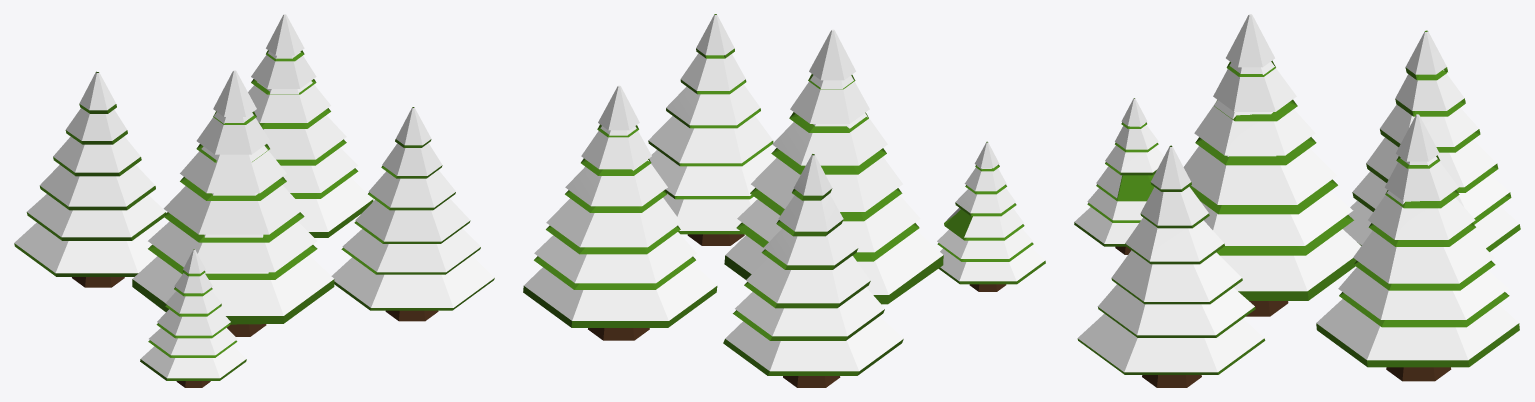
The model's file is forest_snow.glb.
The picture shows the model from 3 angles, left to right: view 1: azimuth 30°, elevation 25°; view 2: azimuth 150°, elevation 25°; view 3: azimuth 270°, elevation 25°; orthographic projection. The views are drawn at different scales.
Parts seen in each view (by area): view 1: Cylinder.003; view 2: Cylinder.003; view 3: Cylinder.003.
Boxes of the visible parts, bbox=[...] form: Cylinder.003: bbox=[14, 14, 494, 387]; Cylinder.003: bbox=[523, 14, 1045, 387]; Cylinder.003: bbox=[1074, 14, 1520, 387].
Size of the model in its own units: 15.44 by 11.15 by 15.64.
